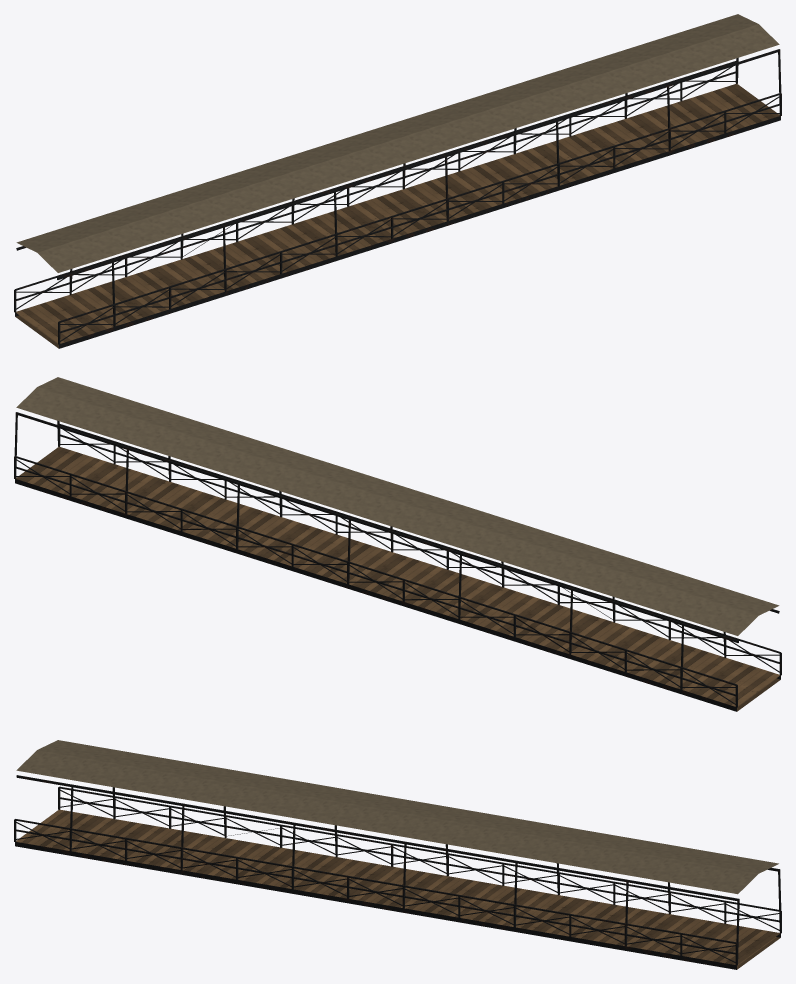
Rendered from A_gangway_bridge.glb.
3 views of the same model, one above another, from view 1: azimuth 30°, elevation 25°; view 2: azimuth 150°, elevation 25°; view 3: azimuth 330°, elevation 25° (orthographic).
Parts seen in each view (by area): view 1: A_gangway_bridge; view 2: A_gangway_bridge; view 3: A_gangway_bridge.
Boxes of the visible parts, bbox=[...] form: A_gangway_bridge: bbox=[14, 14, 781, 348]; A_gangway_bridge: bbox=[14, 377, 781, 711]; A_gangway_bridge: bbox=[14, 740, 781, 969].
Size of the model in its own units: 36.07 by 6.32 by 3.87.
4 materials, 4 textured.
